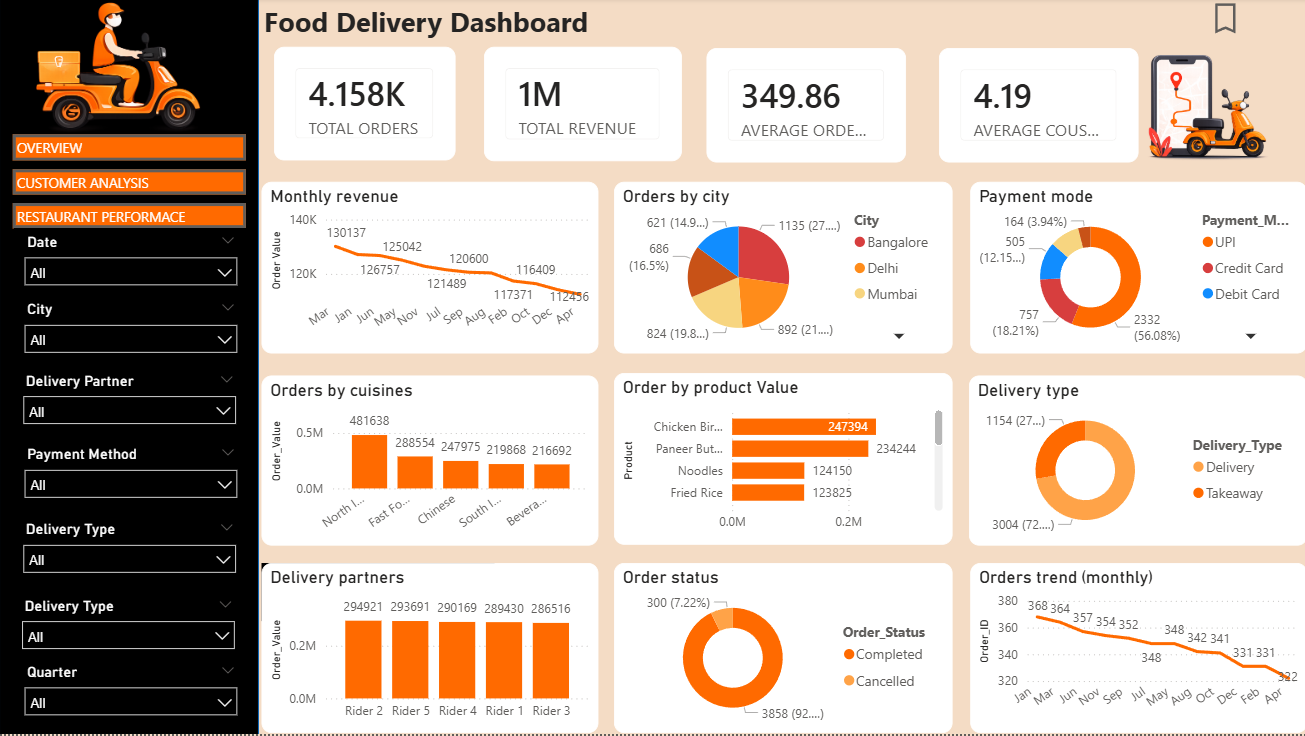

The dashboard page shown, as its layout file describes it:
{"tool":"powerbi","page":{"name":"Page 1","canvas":[1280,720],"ordinal":0},"visuals":[{"type":"shape","box":[0,0,254.3,721],"z":0},{"type":"actionButton","title":"OVERVIEW","box":[13.6,133.3,228.4,25.9],"z":1000},{"type":"actionButton","title":"OVERVIEW","box":[13.6,167.9,228.4,24.7],"z":2000},{"type":"actionButton","title":"OVERVIEW","box":[13.6,200,228.4,24.7],"z":3000},{"type":"image","box":[25.9,0,184,133.3],"z":4000},{"type":"slicer","fields":{"Values":["Orders.Order_Date"]},"box":[14.8,224.7,228.4,56.8],"z":5000},{"type":"slicer","fields":{"Values":["Orders.City"]},"box":[14.8,291.4,228.4,56.8],"z":6000},{"type":"slicer","fields":{"Values":["Orders.Delivery_Partner"]},"box":[13.6,360.5,228.4,56.8],"z":7000},{"type":"slicer","fields":{"Values":["Orders.Payment_Method"]},"box":[14.8,433.3,228.4,56.8],"z":8000},{"type":"slicer","fields":{"Values":["Orders.Delivery_Type"]},"box":[13.6,506.2,228.4,56.8],"z":9000},{"type":"image","box":[1086.4,50.6,193.8,111.1],"z":10000},{"type":"textbox","box":[253.9,0,385.6,54.9],"z":11000},{"type":"cardVisual","fields":{"Data":["CountNonNull(Orders.Order_ID)"]},"box":[269.1,48.1,177.8,111.1],"z":12000},{"type":"cardVisual","fields":{"Data":["Sum(Orders.Order_Value)"]},"box":[474.1,48.1,193.8,112.3],"z":13000},{"type":"cardVisual","fields":{"Data":["Avg(Orders.Order_Value)"]},"box":[692.6,49.4,195.1,112.3],"z":14000},{"type":"cardVisual","fields":{"Data":["Avg(Orders.Rating)"]},"box":[919.8,49.4,195.1,112.3],"z":15000},{"type":"lineChart","title":"Monthly revenue","fields":{"Category":["Orders.Month"],"Y":["Sum(Orders.Order_Value)"]},"box":[256.8,180.2,329.6,167.9],"z":16000},{"type":"pieChart","title":"Orders by city","fields":{"Category":["Orders.City"],"Y":["CountNonNull(Orders.Order_ID)"]},"box":[601.2,180.2,330.9,167.9],"z":17000},{"type":"donutChart","title":"Payment mode","fields":{"Y":["CountNonNull(Orders.Order_ID)"],"Category":["Orders.Payment_Method"]},"box":[950.6,180.2,329.6,167.9],"z":18000},{"type":"columnChart","title":"Orders by cuisines","fields":{"Y":["Sum(Orders.Order_Value)"],"Category":["Orders.Cuisine"]},"box":[256.8,369.1,329.6,166.7],"z":19000},{"type":"clusteredBarChart","title":"Order by product Value ","fields":{"Category":["Orders.Product"],"Y":["Sum(Orders.Order_Value)"]},"box":[601.2,366.7,330.9,167.9],"z":20000},{"type":"donutChart","title":"Delivery type","fields":{"Category":["Orders.Delivery_Type"],"Y":["CountNonNull(Orders.Order_ID)"]},"box":[949.4,369.1,330.9,166.7],"z":21000},{"type":"slicer","fields":{"Values":["Orders.Month"]},"box":[256.8,553.1,228.4,56.8],"z":22000},{"type":"slicer","fields":{"Values":["Orders.Quarter"]},"box":[14.8,645.7,228.4,64.2],"z":23000},{"type":"columnChart","title":"Delivery partners","fields":{"Y":["Sum(Orders.Order_Value)"],"Category":["Orders.Delivery_Partner"]},"box":[256.8,553.1,329.6,166.7],"z":24000},{"type":"donutChart","title":"Order status","fields":{"Y":["CountNonNull(Orders.Order_ID)"],"Category":["Orders.Order_Status"]},"box":[601.2,553.1,330.9,166.7],"z":25000},{"type":"lineChart","title":"Orders trend (monthly)","fields":{"Y":["CountNonNull(Orders.Order_ID)"],"Category":["Orders.Month"]},"box":[950.6,553.1,329.6,166.7],"z":26000},{"type":"slicer","fields":{"Values":["Orders.Delivery_Type"]},"box":[12.3,580.2,228.4,56.8],"z":27000},{"type":"actionButton","box":[1180.2,0,100,39.5],"z":28000}]}

Visuals, with their boxes in screenshot pixels (x1, y1, x2, y2), scaled from the page's 1280x720 canvas onto the 1305x736 screenshot:
shape: x1=0, y1=0, x2=259, y2=735
"OVERVIEW" actionButton: x1=14, y1=136, x2=247, y2=163
"OVERVIEW" actionButton: x1=14, y1=172, x2=247, y2=197
"OVERVIEW" actionButton: x1=14, y1=204, x2=247, y2=230
image: x1=26, y1=0, x2=214, y2=136
slicer - Orders.Order_Date: x1=15, y1=230, x2=248, y2=288
slicer - Orders.City: x1=15, y1=298, x2=248, y2=356
slicer - Orders.Delivery_Partner: x1=14, y1=369, x2=247, y2=427
slicer - Orders.Payment_Method: x1=15, y1=443, x2=248, y2=501
slicer - Orders.Delivery_Type: x1=14, y1=517, x2=247, y2=576
image: x1=1108, y1=52, x2=1304, y2=165
textbox: x1=259, y1=0, x2=652, y2=56
cardVisual - CountNonNull(Orders.Order_ID): x1=274, y1=49, x2=456, y2=163
cardVisual - Sum(Orders.Order_Value): x1=483, y1=49, x2=681, y2=164
cardVisual - Avg(Orders.Order_Value): x1=706, y1=50, x2=905, y2=165
cardVisual - Avg(Orders.Rating): x1=938, y1=50, x2=1137, y2=165
"Monthly revenue" lineChart: x1=262, y1=184, x2=598, y2=356
"Orders by city" pieChart: x1=613, y1=184, x2=950, y2=356
"Payment mode" donutChart: x1=969, y1=184, x2=1304, y2=356
"Orders by cuisines" columnChart: x1=262, y1=377, x2=598, y2=548
"Order by product Value " clusteredBarChart: x1=613, y1=375, x2=950, y2=546
"Delivery type" donutChart: x1=968, y1=377, x2=1304, y2=548
slicer - Orders.Month: x1=262, y1=565, x2=495, y2=623
slicer - Orders.Quarter: x1=15, y1=660, x2=248, y2=726
"Delivery partners" columnChart: x1=262, y1=565, x2=598, y2=735
"Order status" donutChart: x1=613, y1=565, x2=950, y2=735
"Orders trend (monthly)" lineChart: x1=969, y1=565, x2=1304, y2=735
slicer - Orders.Delivery_Type: x1=13, y1=593, x2=245, y2=651
actionButton: x1=1203, y1=0, x2=1304, y2=40
